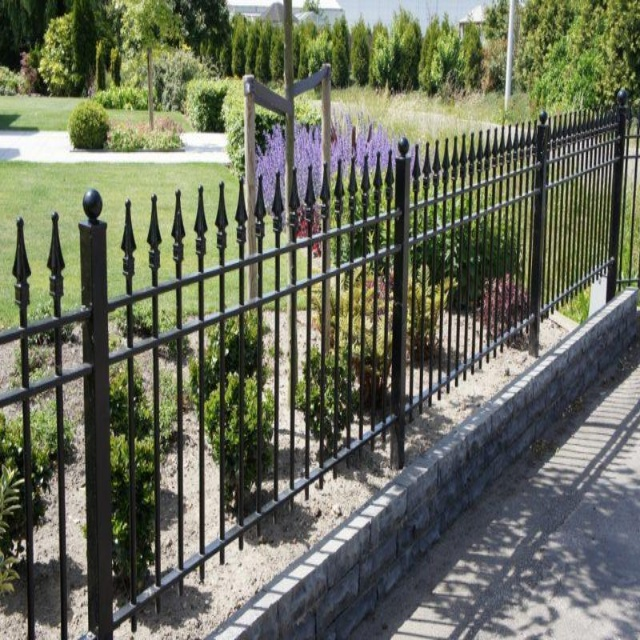obstacle: (27, 373, 640, 623)
